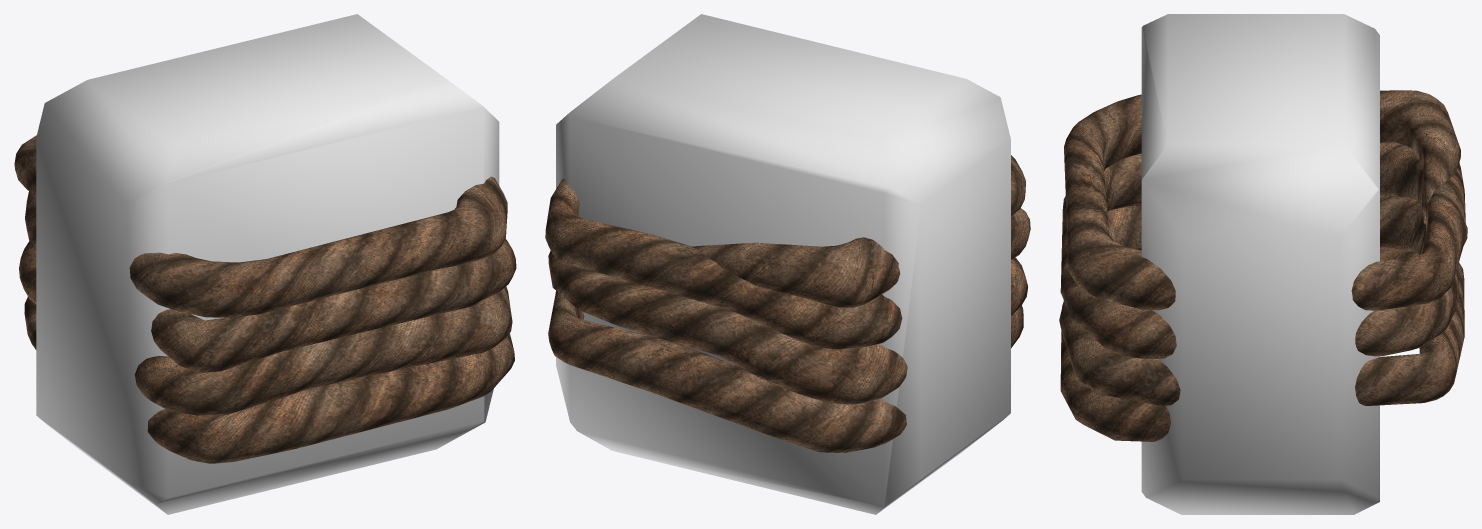
Rendered from SM_Rope_D.fbx.
3 views of the same model, side by side, from view 1: azimuth 30°, elevation 25°; view 2: azimuth 150°, elevation 25°; view 3: azimuth 270°, elevation 25° (orthographic).
Parts seen in each view (by area): view 1: SM_Rope_D_ConvexHulls, SM_Rope_D; view 2: SM_Rope_D_ConvexHulls, SM_Rope_D; view 3: SM_Rope_D_ConvexHulls, SM_Rope_D.
Part boxes in pixels (x1=…): SM_Rope_D_ConvexHulls: x1=36, y1=14, x2=499, y2=514; SM_Rope_D: x1=14, y1=135, x2=516, y2=463; SM_Rope_D_ConvexHulls: x1=556, y1=14, x2=1010, y2=514; SM_Rope_D: x1=545, y1=155, x2=1030, y2=452; SM_Rope_D_ConvexHulls: x1=1141, y1=14, x2=1379, y2=514; SM_Rope_D: x1=1059, y1=90, x2=1467, y2=441.
Bounding box in the file's own units: 0.5546 × 0.5255 × 0.5235.
